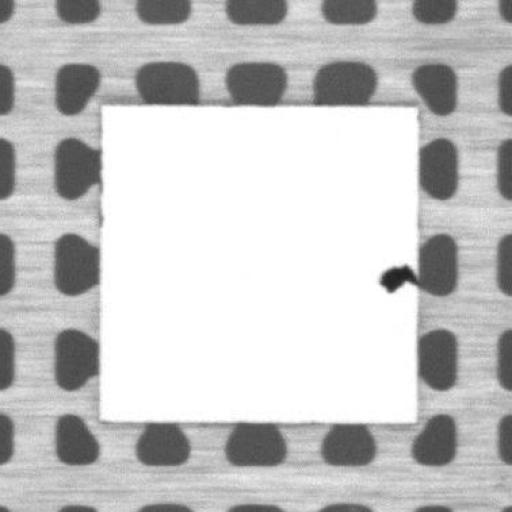DIE_INK: (378, 262, 414, 295)
